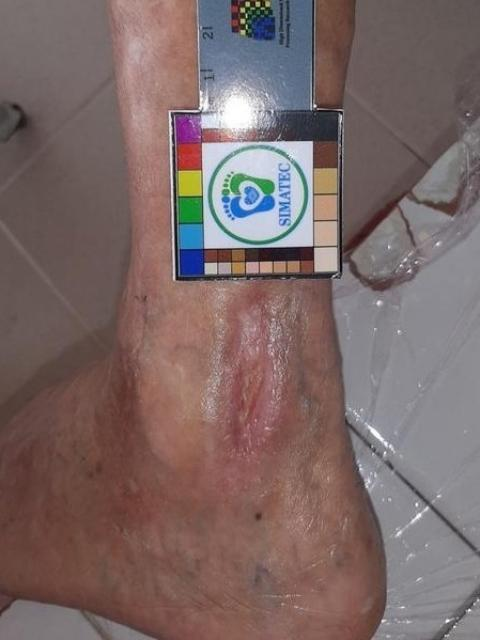wound: (233, 294, 284, 453)
